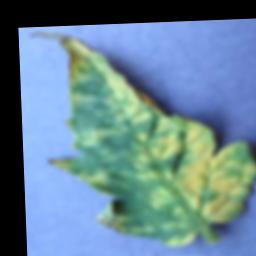Leaf_Mold: (30, 25, 256, 252)
